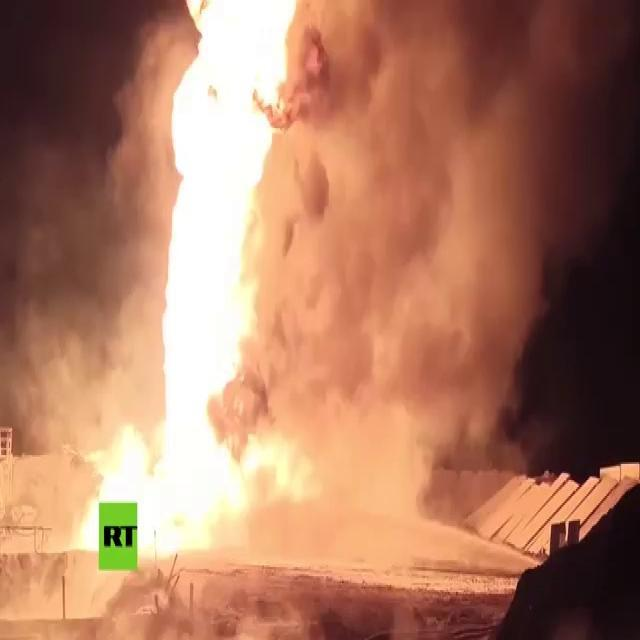Fire: (68, 390, 318, 554), (168, 0, 296, 162), (165, 164, 268, 298), (161, 300, 257, 392)
Smoke: (327, 3, 633, 559), (6, 4, 158, 383), (0, 399, 63, 609), (269, 166, 319, 384)
